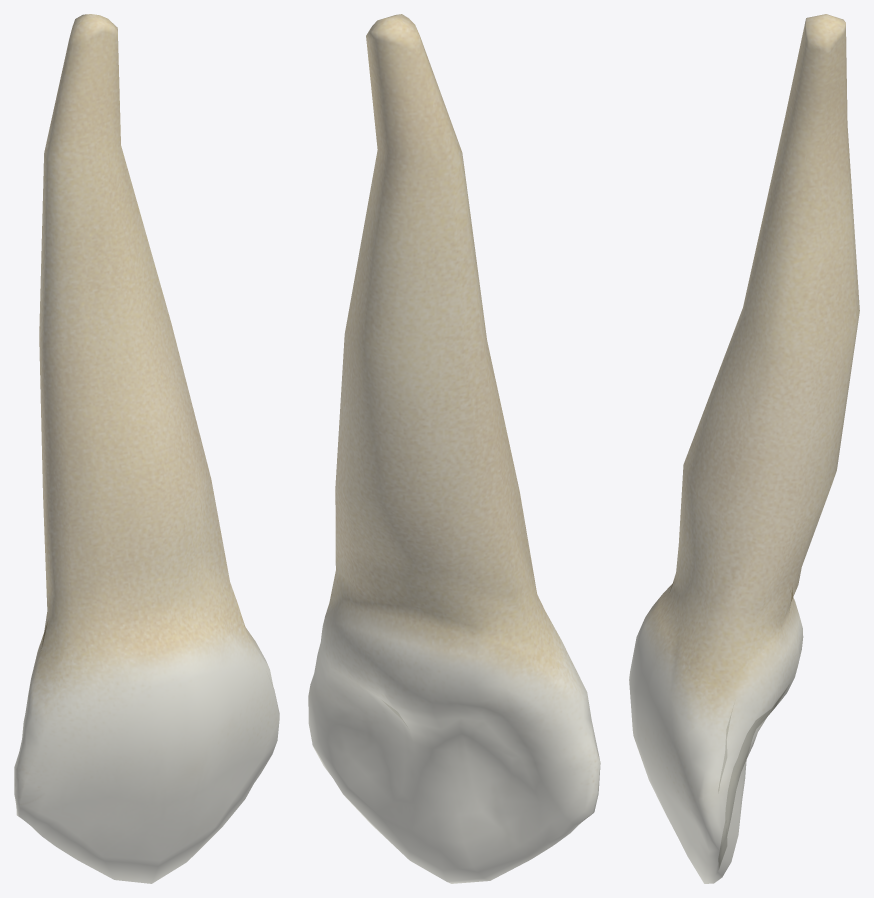
The model's file is Human Teeth Upper Canine.gltf.
3 views of the same model, side by side, from view 1: azimuth 30°, elevation 25°; view 2: azimuth 150°, elevation 25°; view 3: azimuth 270°, elevation 25° (orthographic). The views are drawn at different scales.
Visible parts, largest first — view 1: Human_Teeth_Upper_Canine_Geo; view 2: Human_Teeth_Upper_Canine_Geo; view 3: Human_Teeth_Upper_Canine_Geo.
Part boxes in pixels (<box>): Human_Teeth_Upper_Canine_Geo: <box>14,14,279,883</box>; Human_Teeth_Upper_Canine_Geo: <box>308,14,600,883</box>; Human_Teeth_Upper_Canine_Geo: <box>629,14,859,883</box>.
Size of the model in its own units: 2.04 by 6.18 by 1.5.
Materials: 1 (1 with a texture image).
